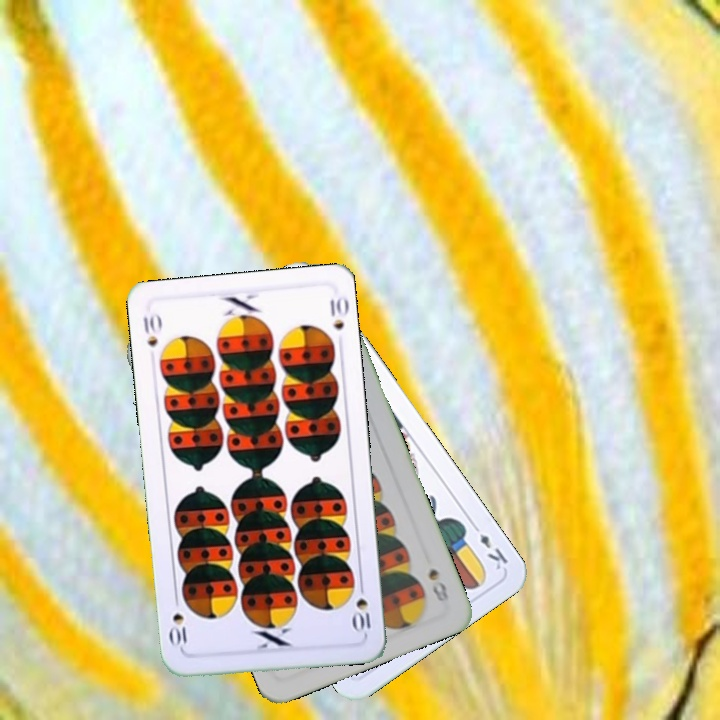EK: (467, 518, 511, 573)
S10: (349, 578, 374, 635), (139, 309, 164, 349)
S8: (424, 564, 451, 605)
